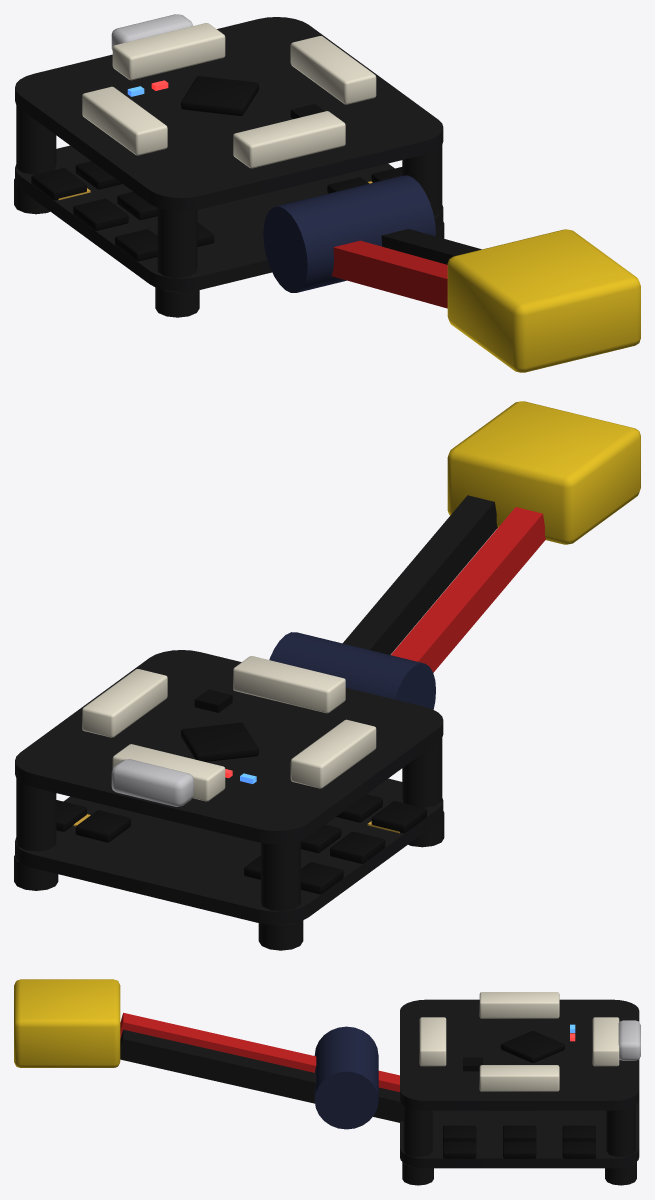
Rendered from stack_30.glb.
3 views of the same model, one above another, from view 1: azimuth 30°, elevation 25°; view 2: azimuth 150°, elevation 25°; view 3: azimuth 270°, elevation 25° (orthographic). The views are drawn at different scales.
Parts seen in each view (by area): view 1: stack_30_M_PCB, stack_30_M_XT60, stack_30_M_Connector, stack_30_M_Cap, stack_30_M_Chip, stack_30_M_Rubber, stack_30_M_WireRed, stack_30_M_WireBlack, stack_30_M_Steel; view 2: stack_30_M_PCB, stack_30_M_XT60, stack_30_M_Connector, stack_30_M_Chip, stack_30_M_Rubber, stack_30_M_WireRed, stack_30_M_WireBlack, stack_30_M_Cap, stack_30_M_Steel; view 3: stack_30_M_PCB, stack_30_M_XT60, stack_30_M_Connector, stack_30_M_WireBlack, stack_30_M_Cap, stack_30_M_Chip, stack_30_M_Rubber, stack_30_M_WireRed, stack_30_M_Steel.
Boxes of the visible parts, box(x1,y1,x2,y2) form: stack_30_M_PCB: box(15, 17, 443, 291); stack_30_M_XT60: box(447, 229, 640, 372); stack_30_M_Connector: box(82, 23, 376, 168); stack_30_M_Cap: box(263, 175, 435, 292); stack_30_M_Chip: box(31, 76, 402, 261); stack_30_M_Rubber: box(14, 105, 444, 317); stack_30_M_WireRed: box(332, 240, 447, 308); stack_30_M_WireBlack: box(381, 229, 481, 264); stack_30_M_Steel: box(111, 14, 193, 50); stack_30_M_PCB: box(15, 650, 443, 924); stack_30_M_XT60: box(447, 401, 640, 544); stack_30_M_Connector: box(82, 656, 376, 801); stack_30_M_Chip: box(56, 689, 426, 894); stack_30_M_Rubber: box(14, 738, 444, 950); stack_30_M_WireRed: box(391, 507, 545, 672); stack_30_M_WireBlack: box(342, 495, 497, 654); stack_30_M_Cap: box(269, 632, 435, 709); stack_30_M_Steel: box(111, 759, 193, 806); stack_30_M_PCB: box(400, 999, 639, 1168); stack_30_M_XT60: box(14, 979, 120, 1067); stack_30_M_Connector: box(419, 992, 619, 1091); stack_30_M_WireBlack: box(120, 1029, 403, 1122); stack_30_M_Cap: box(314, 1026, 378, 1129); stack_30_M_Chip: box(443, 1031, 595, 1158); stack_30_M_Rubber: box(402, 1105, 636, 1185); stack_30_M_WireRed: box(120, 1012, 399, 1091); stack_30_M_Steel: box(618, 1020, 640, 1060).
Bounding box in the file's own units: 0.0362 × 0.0227 × 0.0943.
